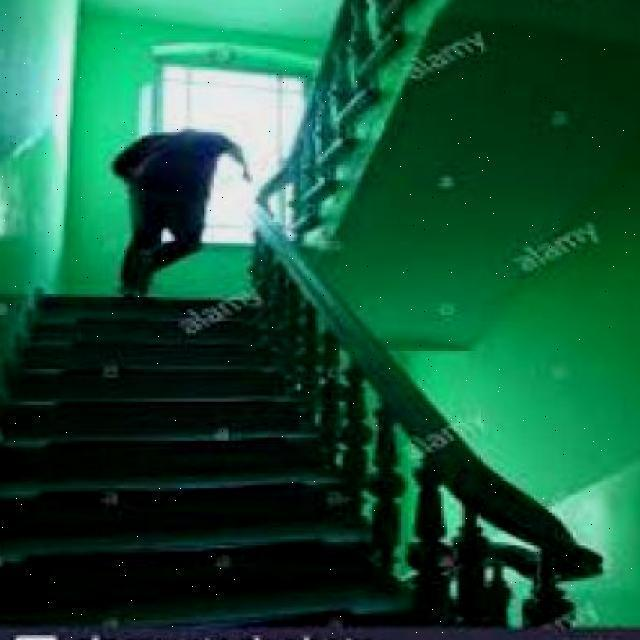stair: (5, 387, 372, 581)
